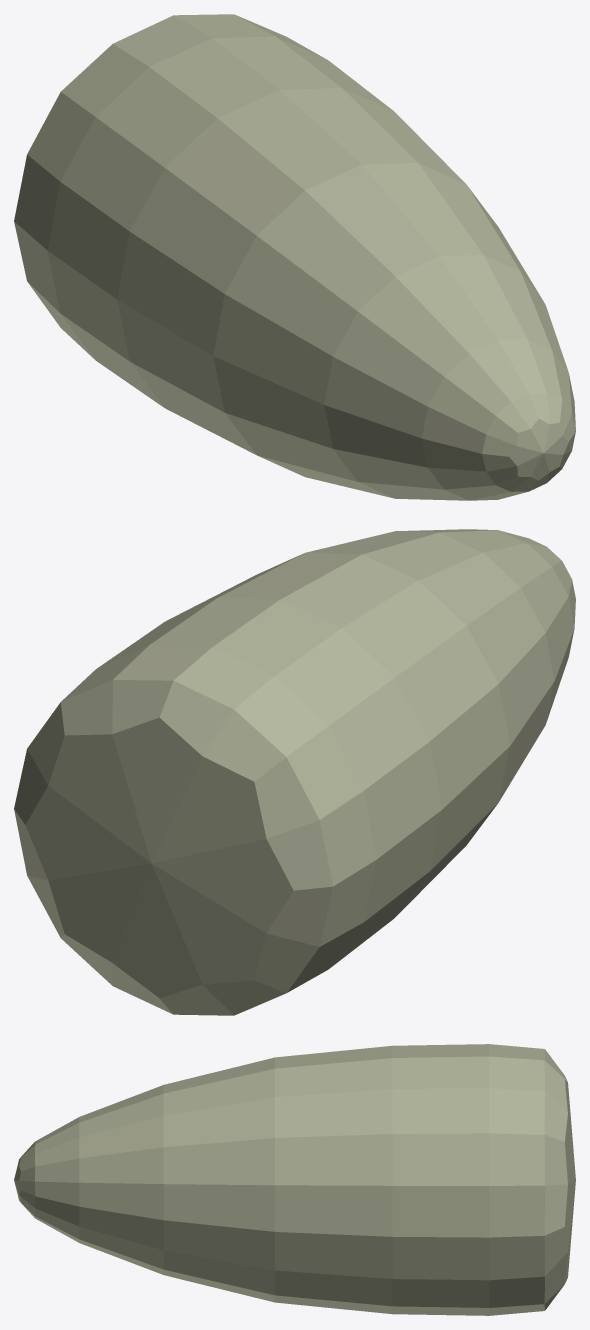
File: bullet_01.fbx
The picture shows the model from 3 angles, top to bottom: view 1: azimuth 30°, elevation 25°; view 2: azimuth 150°, elevation 25°; view 3: azimuth 270°, elevation 25°; orthographic projection. The views are drawn at different scales.
Visible parts, largest first — view 1: Cylinder; view 2: Cylinder; view 3: Cylinder.
Boxes of the visible parts, x1,y1,x2,y2 form: Cylinder: [14, 14, 575, 500]; Cylinder: [14, 529, 575, 1015]; Cylinder: [14, 1044, 575, 1315].
Bounding box in the file's own units: 45.12 × 45.12 × 93.09.
